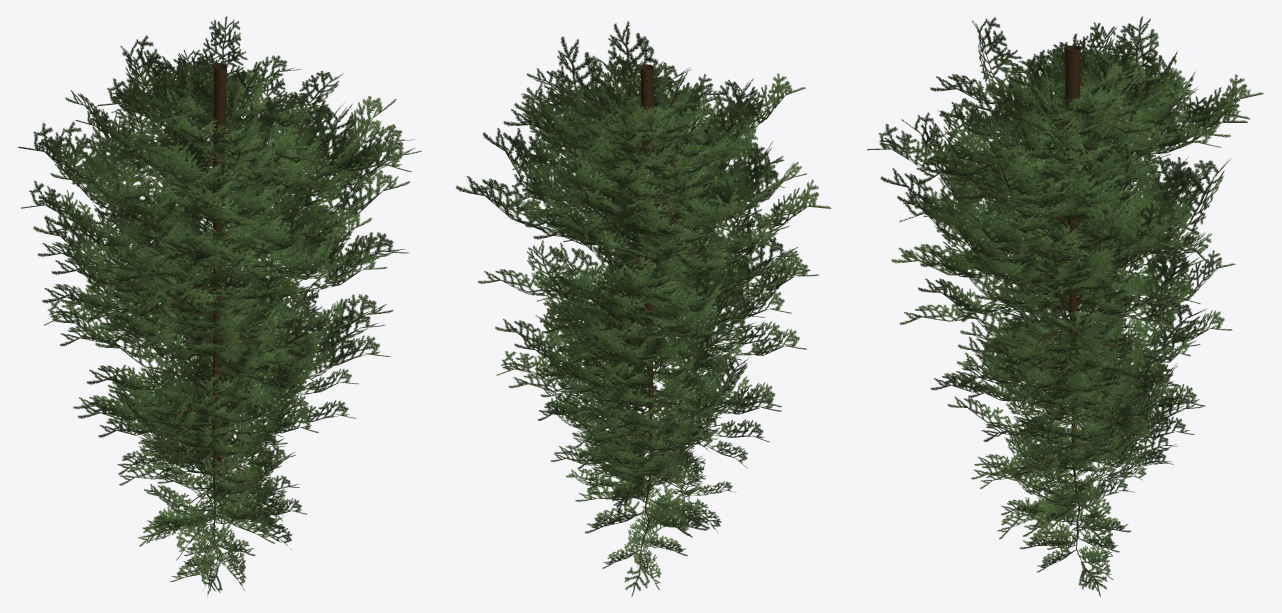
Rendered from pine.glb.
3 renders of one model, left to right at view 1: azimuth 30°, elevation 25°; view 2: azimuth 150°, elevation 25°; view 3: azimuth 270°, elevation 25°, orthographic. The views are drawn at different scales.
Visible parts, largest first — view 1: Christmas tree_6_LOD0; view 2: Christmas tree_6_LOD0; view 3: Christmas tree_6_LOD0.
Boxes of the visible parts, x1,y1,x2,y2 form: Christmas tree_6_LOD0: (17, 16, 421, 595); Christmas tree_6_LOD0: (456, 21, 831, 596); Christmas tree_6_LOD0: (867, 16, 1264, 596).
Size of the model in its own units: 4.52 by 6.59 by 4.39.
2 materials, 2 textured.
